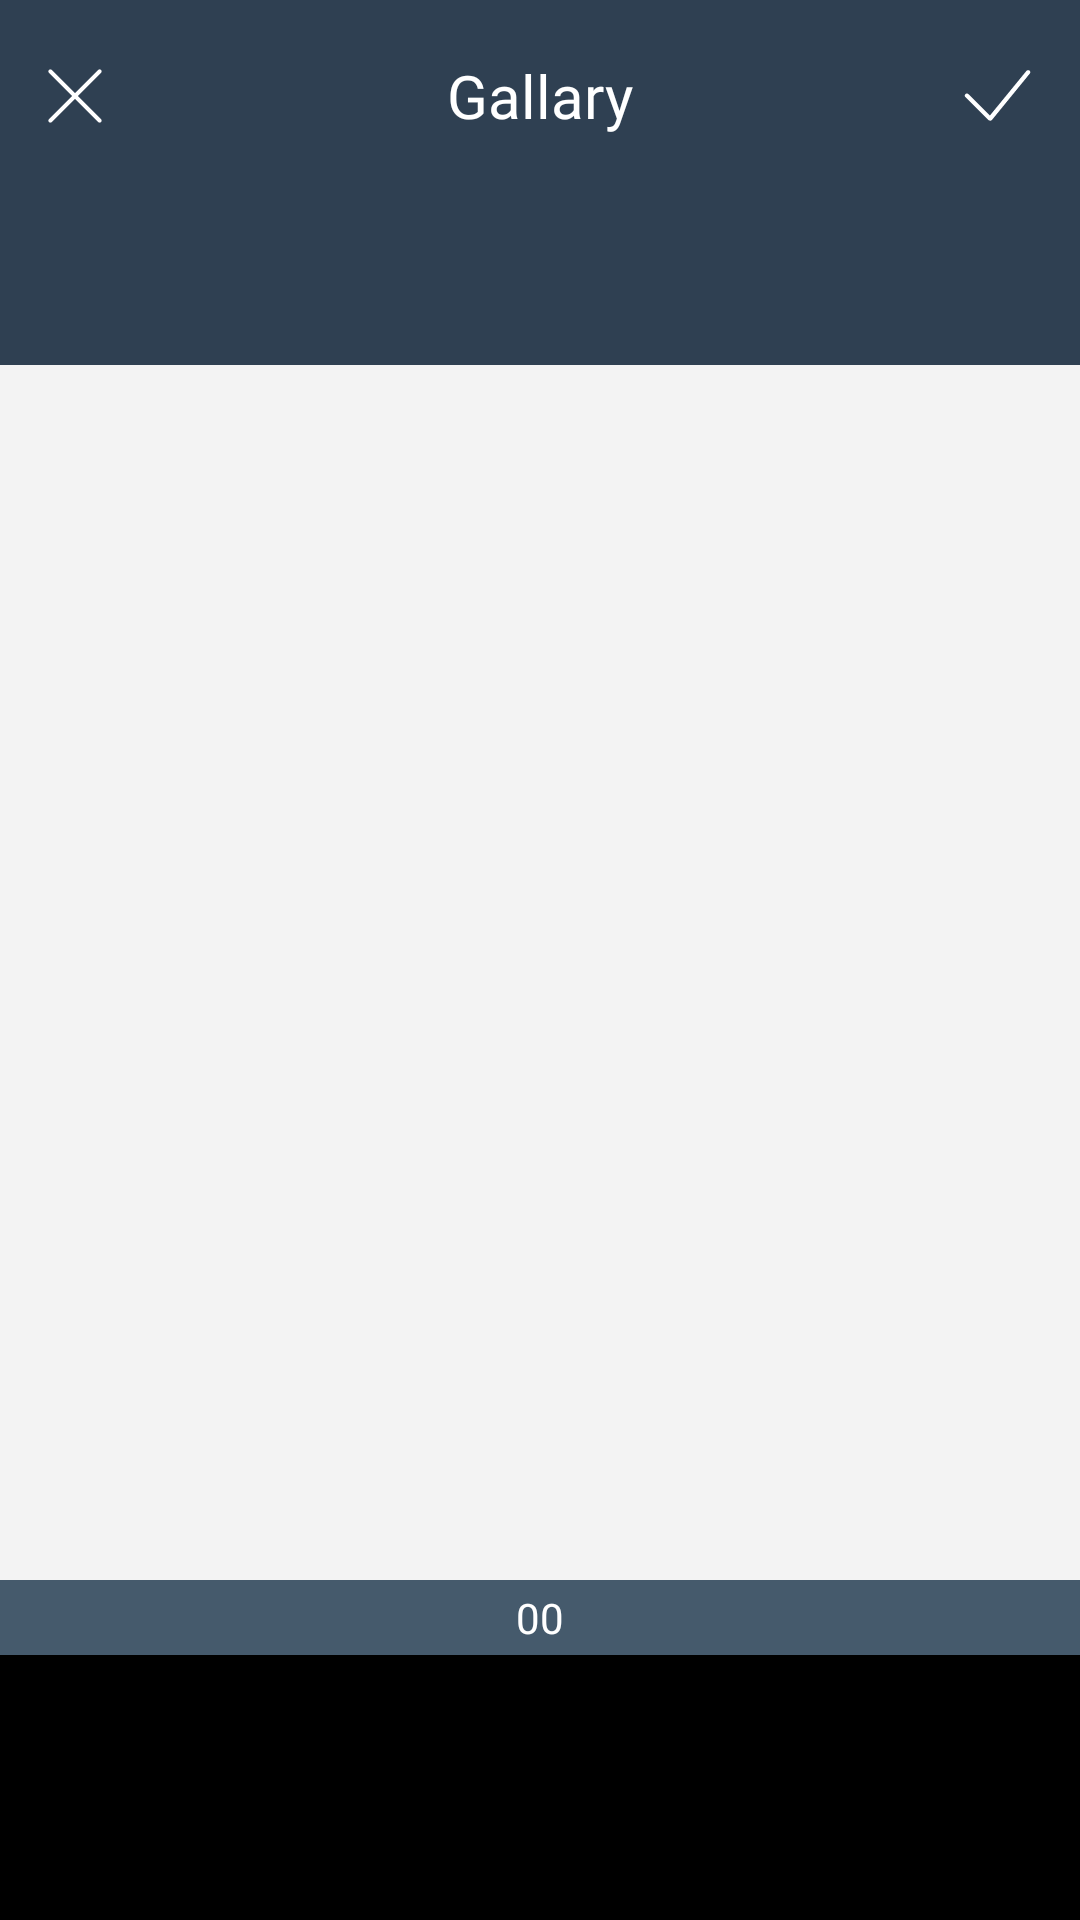

Icon click points for this 1080 × 1920 phone screenshot, format (x=x, y=y):
cancel: (x=75, y=96)
done: (x=997, y=95)
